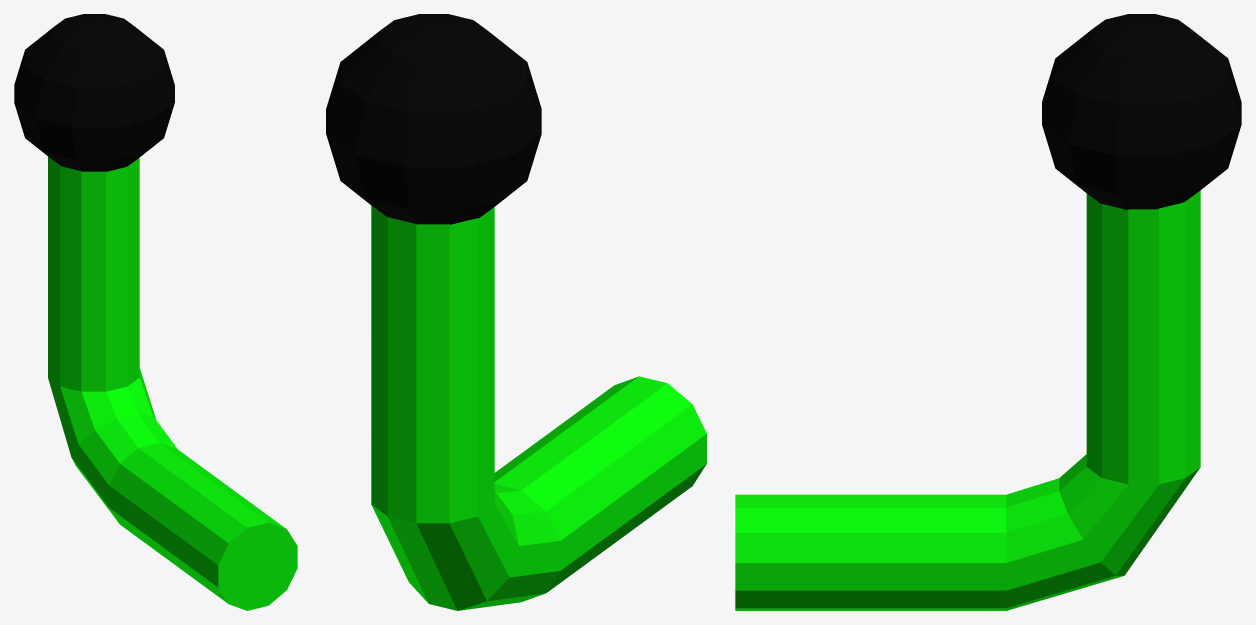
The model's file is feeler.gltf.
The picture shows the model from 3 angles, left to right: view 1: azimuth 30°, elevation 25°; view 2: azimuth 150°, elevation 25°; view 3: azimuth 270°, elevation 25°; orthographic projection. The views are drawn at different scales.
Visible parts, largest first — view 1: cylinder, sphere; view 2: cylinder, sphere; view 3: cylinder, sphere.
Boxes of the visible parts, box(x1,y1,x2,y2) form: cylinder: box(48, 156, 297, 610); sphere: box(14, 14, 174, 171); cylinder: box(371, 205, 706, 610); sphere: box(326, 14, 541, 224); cylinder: box(735, 190, 1200, 610); sphere: box(1042, 14, 1241, 209).
Size of the model in its own units: 0.4375 by 1.41 by 1.11.
1 material, 1 textured.
